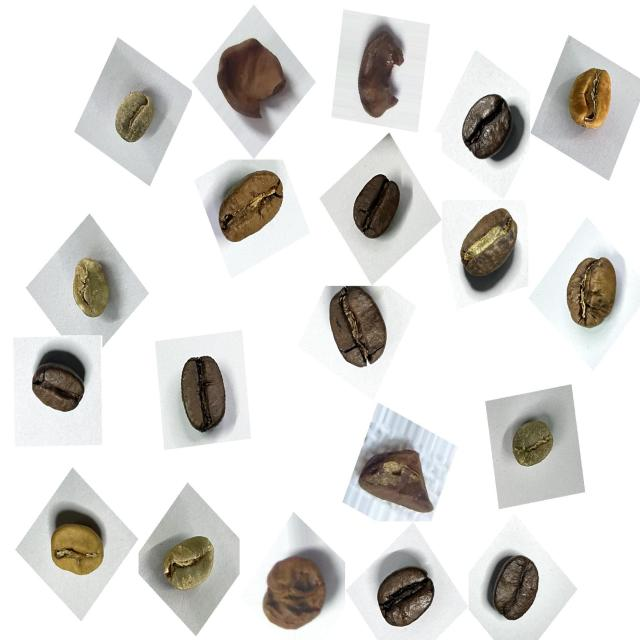bad: (206, 29, 296, 132), (355, 432, 442, 526), (254, 543, 336, 638), (344, 20, 413, 128)
dark: (165, 344, 240, 443), (451, 82, 524, 172), (369, 555, 445, 640), (480, 543, 551, 633), (22, 345, 95, 428), (341, 166, 409, 251)
green: (153, 525, 225, 607), (61, 249, 123, 332), (500, 410, 564, 482), (105, 80, 166, 155)
light: (41, 502, 115, 593), (557, 56, 622, 140)
medium: (206, 158, 292, 256), (446, 196, 528, 296), (316, 284, 398, 379), (553, 246, 629, 342)
